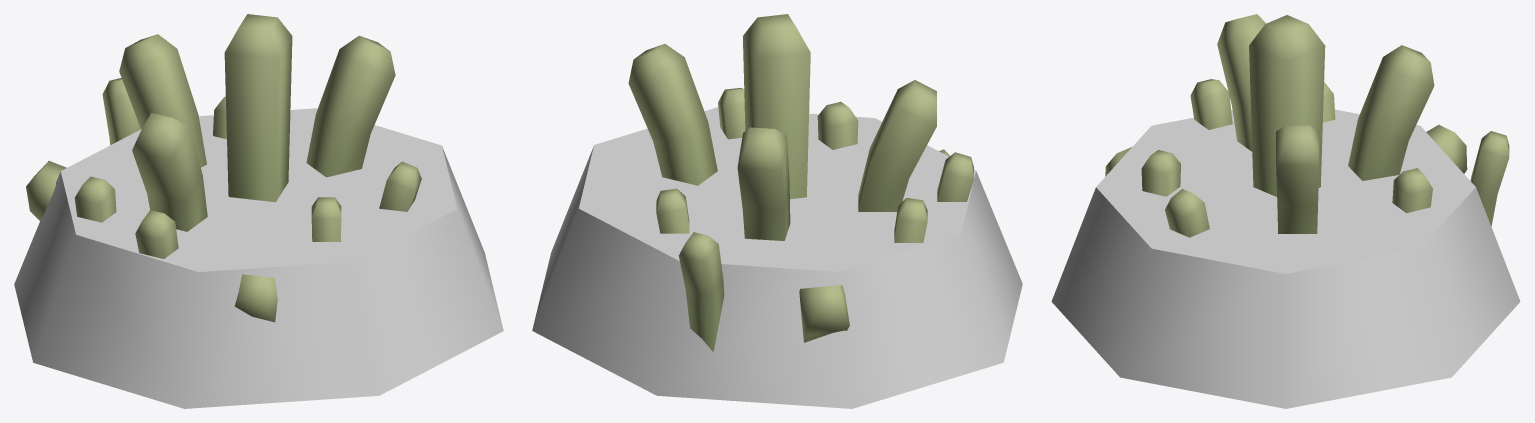
The model's file is garden-grass.glb.
3 renders of one model, left to right at view 1: azimuth 30°, elevation 25°; view 2: azimuth 150°, elevation 25°; view 3: azimuth 270°, elevation 25°, orthographic. The views are drawn at different scales.
Parts seen in each view (by area): view 1: garden-grass; view 2: garden-grass; view 3: garden-grass.
Part boxes in pixels (<box>): garden-grass: <box>14,14,503,408</box>; garden-grass: <box>532,14,1022,408</box>; garden-grass: <box>1051,14,1520,408</box>.
Size of the model in its own units: 0.3766 by 0.2278 by 0.3479.
